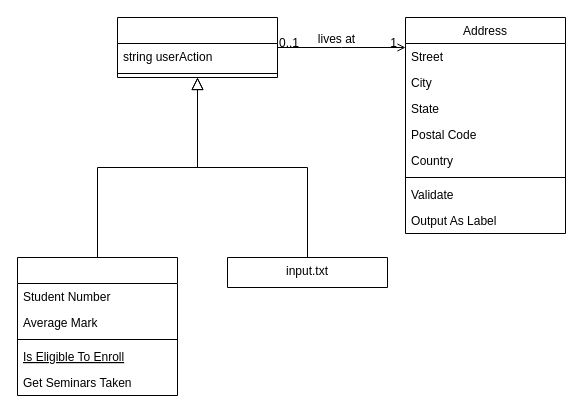
Image size: 583x416. Some labels were removed from this diagram. Here are the shapes that lost their labels. From the top down, the box of each, then its label:
(116, 16, 278, 78): main
(16, 256, 178, 396): input
